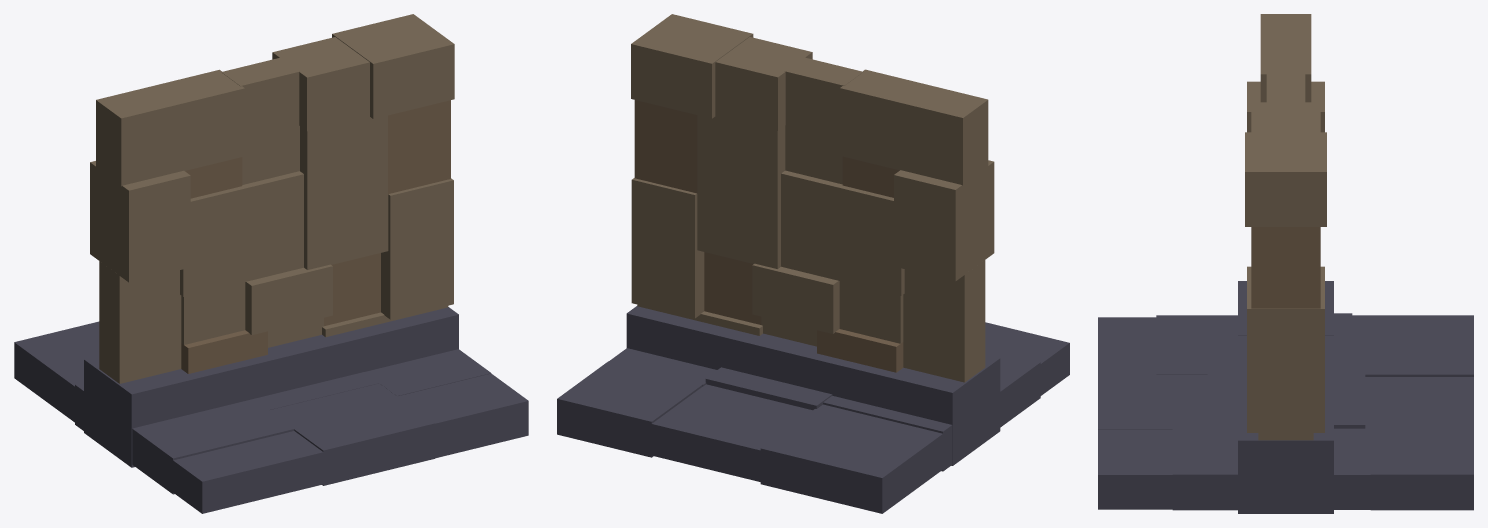
File: kit_far.glb
The picture shows the model from 3 angles, left to right: view 1: azimuth 30°, elevation 25°; view 2: azimuth 150°, elevation 25°; view 3: azimuth 270°, elevation 25°; orthographic projection.
Parts seen in each view (by area): view 1: kit_p1_Wall_Modular, kit_p1_Floor_Modular, kit_p1_WallCover_Modular; view 2: kit_p1_Wall_Modular, kit_p1_Floor_Modular, kit_p1_WallCover_Modular; view 3: kit_p1_Floor_Modular, kit_p1_Wall_Modular, kit_p1_WallCover_Modular.
Part boxes in pixels (<box>): kit_p1_Wall_Modular: <box>90,14,454,383</box>; kit_p1_Floor_Modular: <box>14,321,528,513</box>; kit_p1_WallCover_Modular: <box>84,307,458,467</box>; kit_p1_Wall_Modular: <box>631,14,994,382</box>; kit_p1_Floor_Modular: <box>557,322,1069,513</box>; kit_p1_WallCover_Modular: <box>626,306,1000,465</box>; kit_p1_Floor_Modular: <box>1098,313,1473,510</box>; kit_p1_Wall_Modular: <box>1245,14,1326,440</box>; kit_p1_WallCover_Modular: <box>1238,281,1333,513</box>.
Size of the model in its own units: 2.01 by 2.01 by 2.
